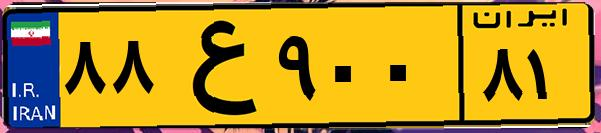0: (385, 28, 445, 110), (330, 28, 385, 110)
1: (525, 38, 570, 115)
8: (57, 26, 110, 100), (475, 38, 525, 113), (110, 28, 158, 98)
9: (270, 28, 330, 110)
ع: (158, 12, 270, 120)
